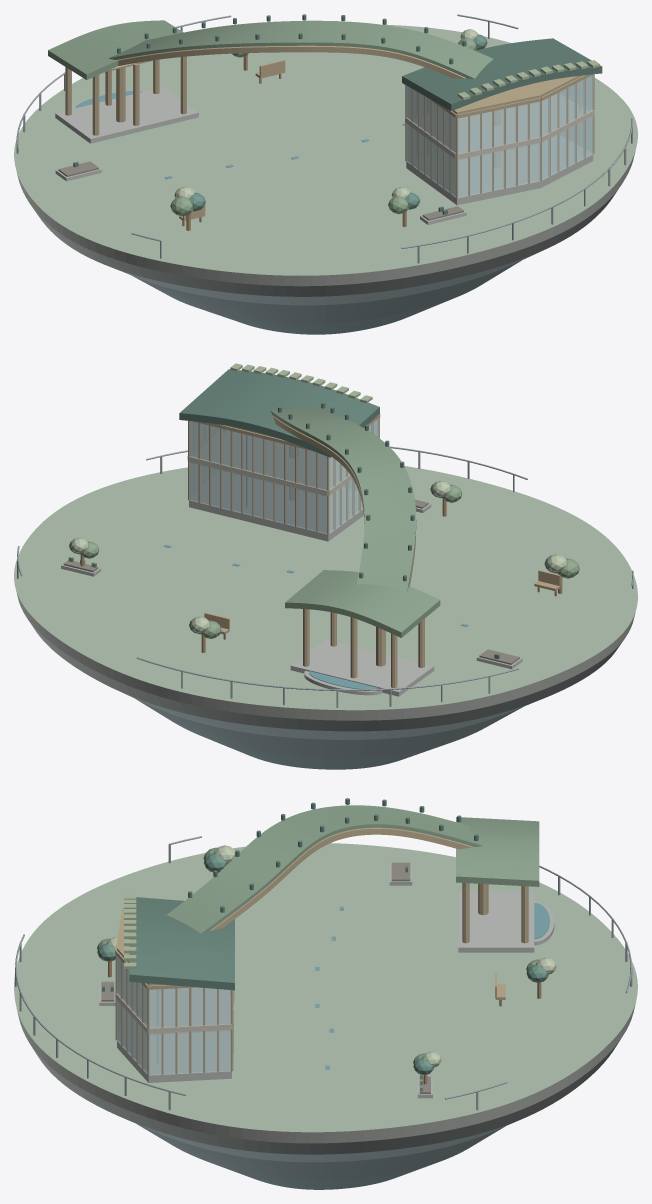
Rendered from E_R21_policy_landmark.glb.
3 renders of one model, top to bottom at view 1: azimuth 30°, elevation 25°; view 2: azimuth 150°, elevation 25°; view 3: azimuth 270°, elevation 25°, orthographic. The views are drawn at different scales.
Visible parts, largest first — view 1: grass, mistglass, stone2, ecoLeaf, ecoWood, ecoDeep, cliff3, cliff2, cliff, cliff_dark, metal, paveLight (+6 smaller); view 2: grass, ecoLeaf, stone2, mistglass, ecoDeep, ecoWood, cliff3, cliff2, cliff, metal, cliff_dark, paveLight (+6 smaller); view 3: grass, ecoLeaf, stone2, mistglass, ecoDeep, ecoWood, cliff3, cliff2, cliff, metal, cliff_dark, deepgreen (+5 smaller).
Part boxes in pixels (<box>): grass: <box>14,24,637,275</box>; mistglass: <box>406,75,593,197</box>; stone2: <box>17,87,635,286</box>; ecoLeaf: <box>48,20,493,79</box>; ecoWood: <box>65,45,594,198</box>; ecoDeep: <box>73,14,602,214</box>; cliff3: <box>34,189,618,296</box>; cliff2: <box>131,260,521,323</box>; cliff: <box>116,252,538,305</box>; cliff_dark: <box>202,299,451,334</box>; metal: <box>16,14,632,263</box>; paveLight: <box>405,110,594,159</box>; grass: <box>14,466,637,710</box>; ecoLeaf: <box>68,407,440,637</box>; stone2: <box>16,500,635,720</box>; mistglass: <box>189,418,379,534</box>; ecoDeep: <box>179,369,499,658</box>; ecoWood: <box>188,414,424,687</box>; cliff3: <box>28,620,623,731</box>; cliff2: <box>136,699,522,758</box>; cliff: <box>124,693,531,739</box>; metal: <box>17,446,633,707</box>; cliff_dark: <box>209,739,444,769</box>; paveLight: <box>187,456,352,496</box>; grass: <box>14,843,637,1132</box>; ecoLeaf: <box>167,805,539,1091</box>; stone2: <box>16,863,635,1143</box>; mistglass: <box>116,955,231,1075</box>; ecoDeep: <box>102,798,478,991</box>; ecoWood: <box>115,827,528,1075</box>; cliff3: <box>33,1039,620,1154</box>; cliff2: <box>137,1124,505,1180</box>; cliff: <box>131,1121,514,1162</box>; metal: <box>15,836,632,1110</box>; cliff_dark: <box>217,1163,434,1189</box>; deepgreen: <box>97,853,548,1075</box>.
Bounding box in the file's own units: 33.65 × 16.2 × 30.66.
